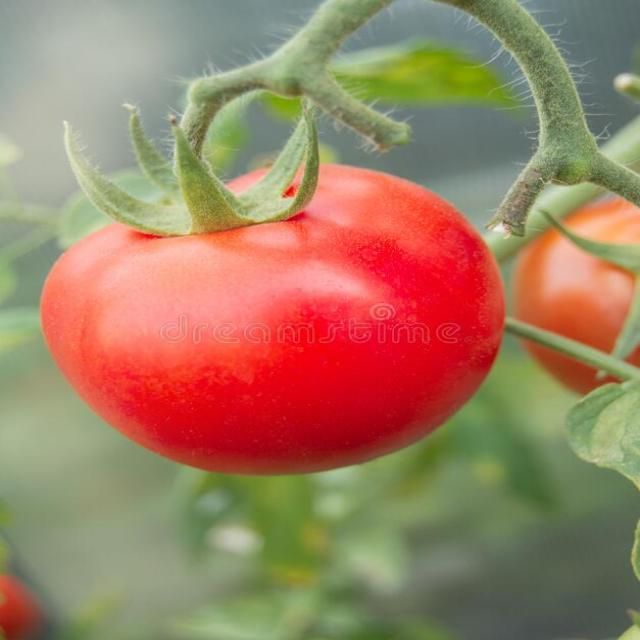kirmizi: (40, 136, 508, 476)
